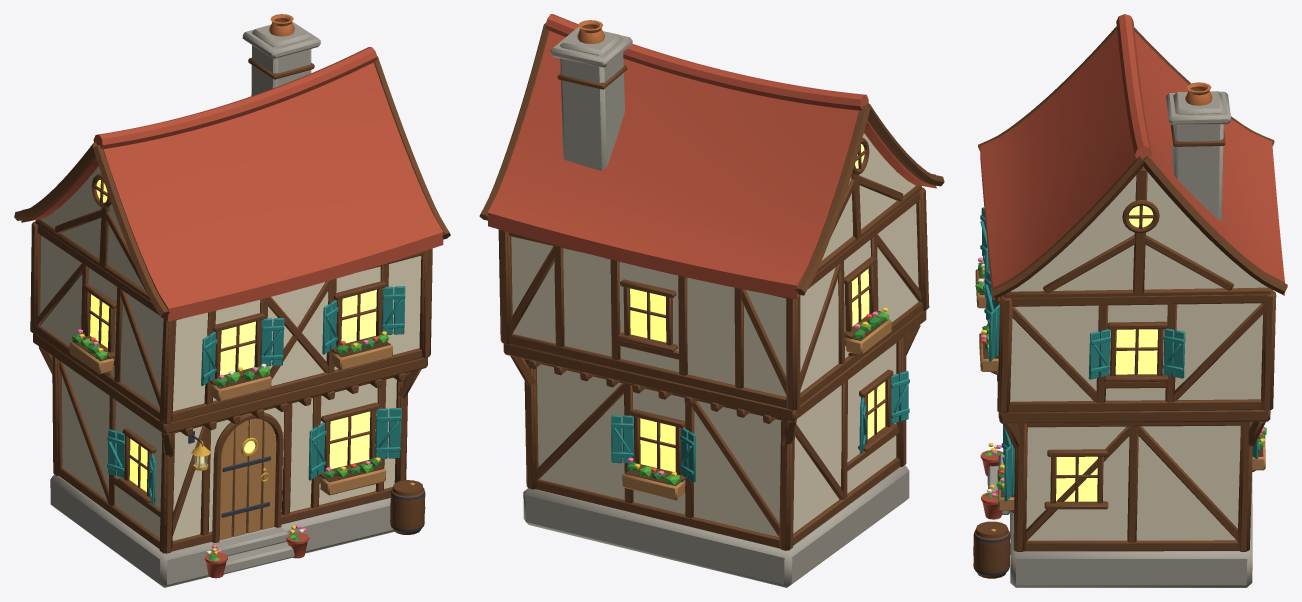
The model's file is bld_house_a.glb.
3 views of the same model, side by side, from view 1: azimuth 30°, elevation 25°; view 2: azimuth 150°, elevation 25°; view 3: azimuth 270°, elevation 25° (orthographic). The views are drawn at different scales.
Parts seen in each view (by area): view 1: HouseA; view 2: HouseA; view 3: HouseA.
Part boxes in pixels (x1=…): HouseA: x1=14, y1=14, x2=450, y2=587; HouseA: x1=479, y1=14, x2=944, y2=587; HouseA: x1=973, y1=14, x2=1287, y2=587.
Size of what is drawn, in the model's own units: 6.01 by 8.58 by 5.07.
